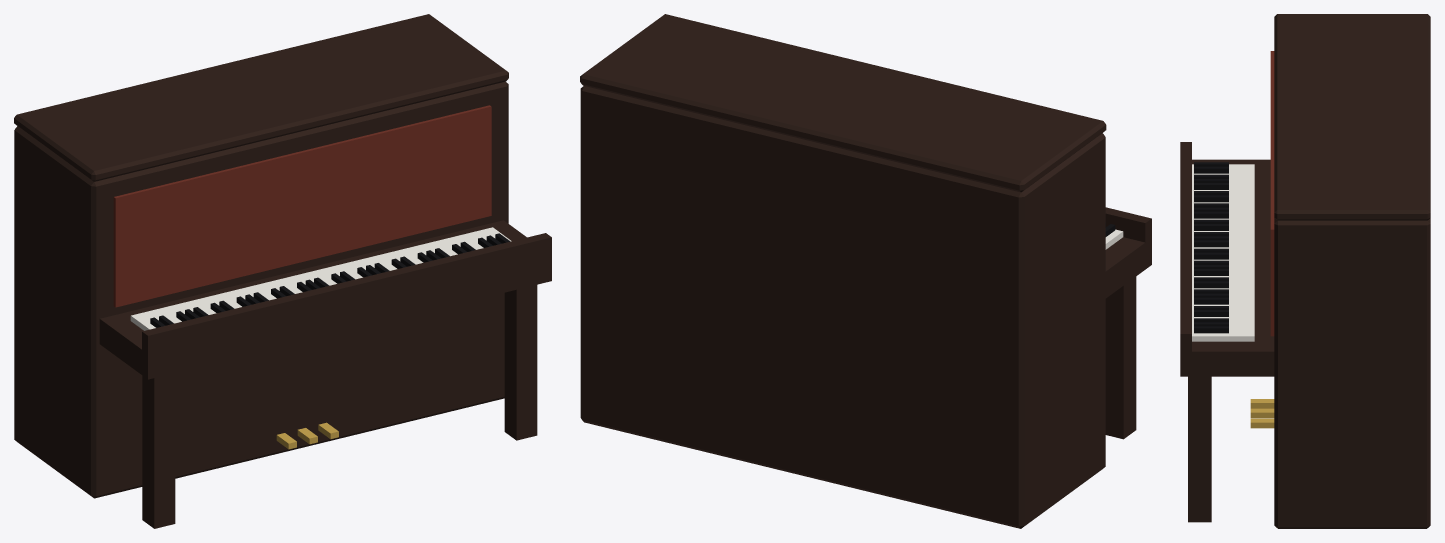
Rendered from FUR_Piano.fbx.
The picture shows the model from 3 angles, left to right: view 1: azimuth 30°, elevation 25°; view 2: azimuth 150°, elevation 25°; view 3: azimuth 270°, elevation 25°; orthographic projection. The views are drawn at different scales.
Parts seen in each view (by area): view 1: FUR_Piano; view 2: FUR_Piano; view 3: FUR_Piano.
Boxes of the visible parts, x1=… form: FUR_Piano: x1=14, y1=14, x2=551, y2=528; FUR_Piano: x1=580, y1=14, x2=1151, y2=528; FUR_Piano: x1=1180, y1=14, x2=1430, y2=528.
Size of the model in its own units: 6 by 4.5 by 3.2.
